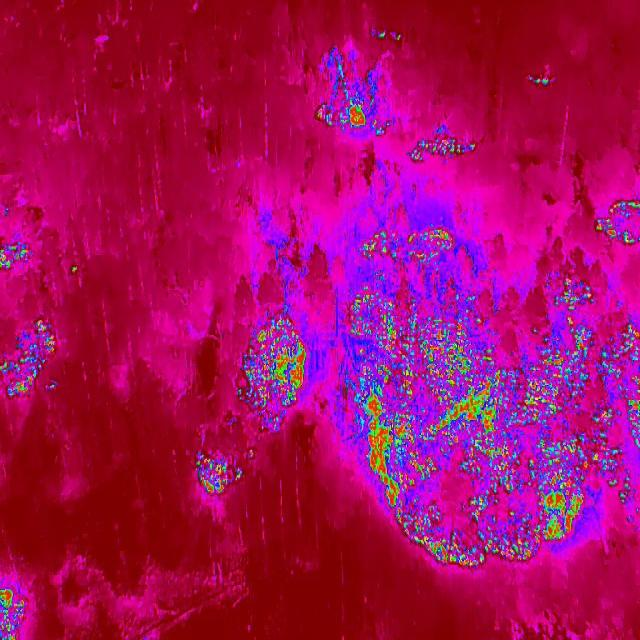fire: (345, 275, 640, 573), (238, 311, 307, 434), (0, 318, 60, 402), (312, 88, 394, 141), (358, 226, 458, 268), (406, 126, 484, 169), (592, 191, 640, 251), (193, 450, 244, 500), (0, 580, 29, 640), (0, 237, 31, 273), (522, 68, 560, 92), (370, 26, 408, 46), (66, 260, 82, 278)
